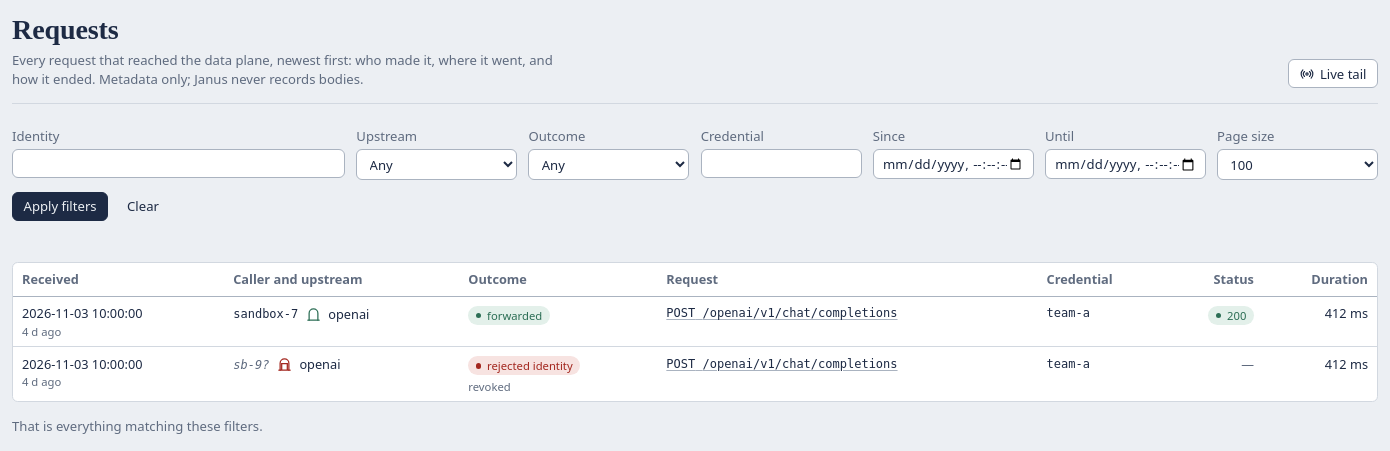
Requests view › shows the log and sends every filter to the daemon
Expected: the table named "Request log" is shown, left=13, top=263, right=1377, bottom=401
Expected: the text "sb-9?" is shown, left=233, top=358, right=269, bottom=372
Type "sandbox-7" into the field labelled "Identity" at (179, 163), box left=12, top=149, right=345, bottom=178
Select "denied" in the dropdown labelled "Outcome" at (609, 165), box left=528, top=149, right=689, bottom=180
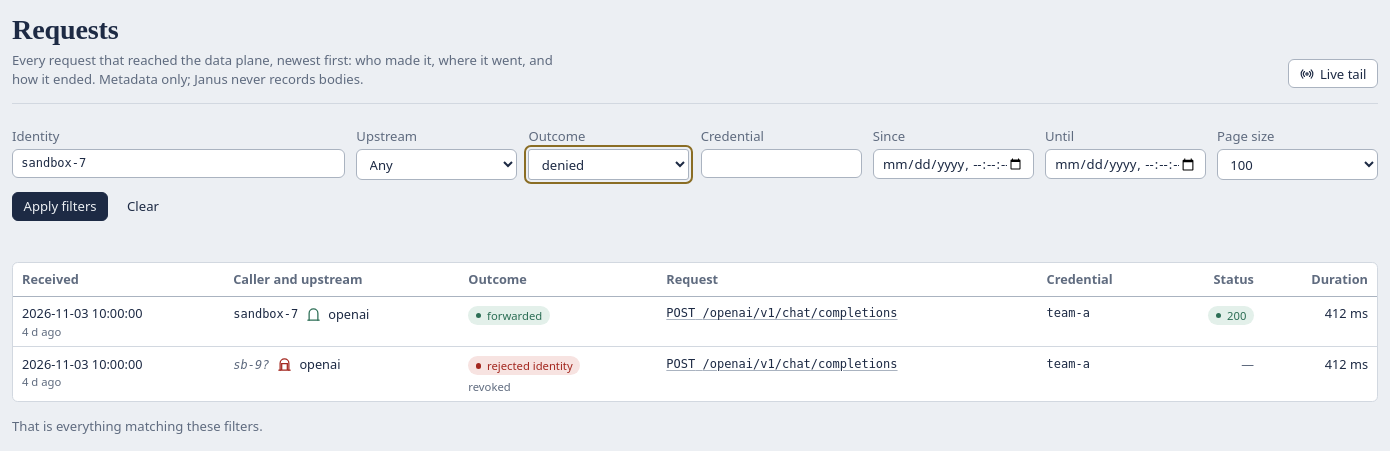
Select "openai" in the dropdown labelled "Upstream" at (437, 165), box left=356, top=149, right=517, bottom=180
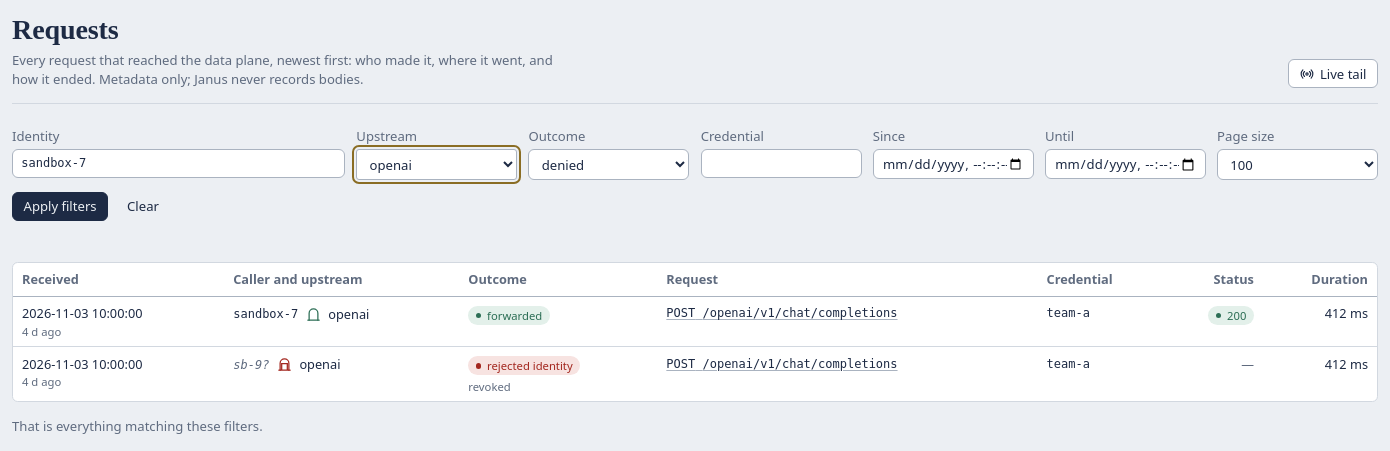
Type "team-a" into the field labelled "Credential" at (781, 163), box left=701, top=149, right=862, bottom=178
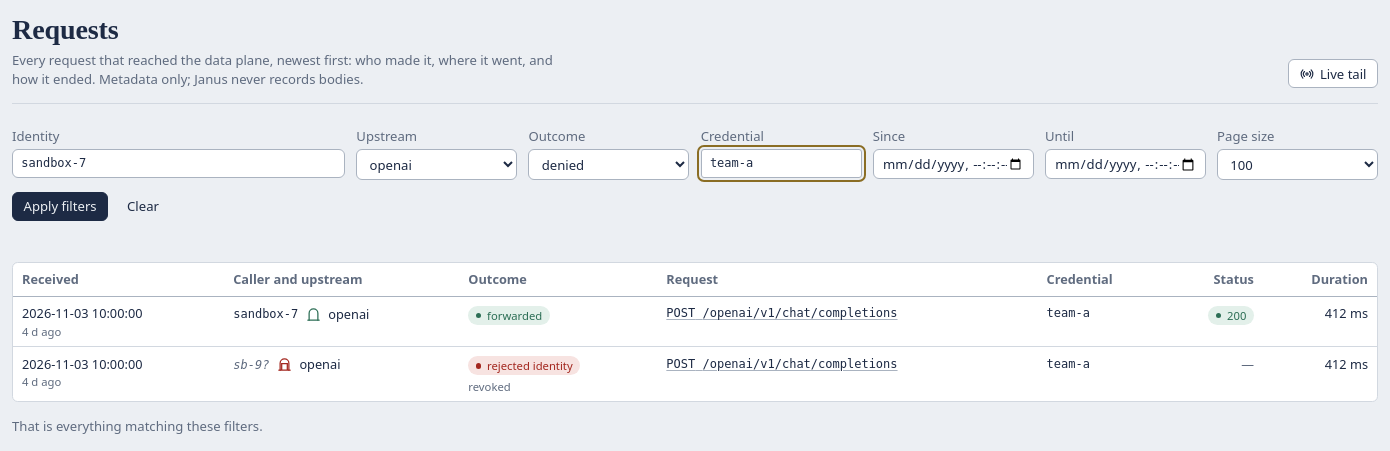
Type "2026-11-03T09:00:00" into the field labelled "Since" at (953, 164), box left=873, top=149, right=1034, bottom=179
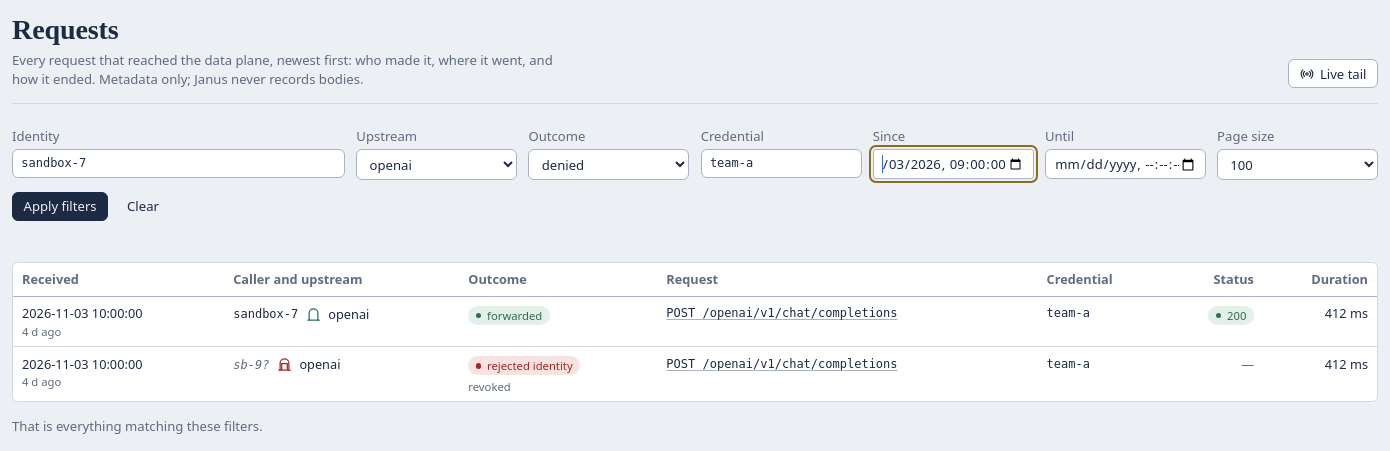
Select "250" in the dropdown labelled "Page size" at (1298, 165), box left=1217, top=149, right=1378, bottom=180
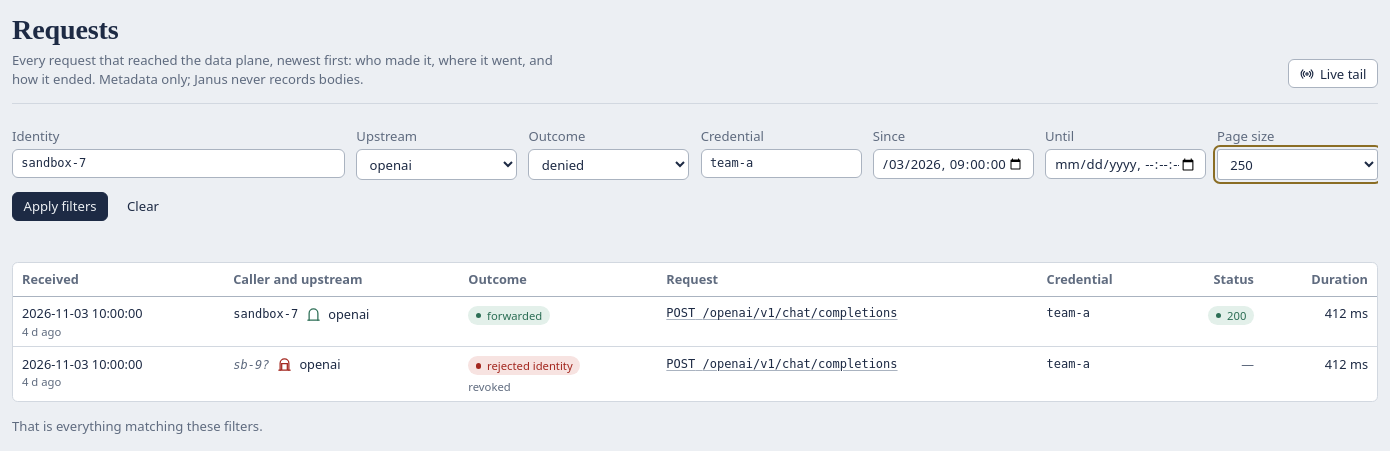
Click the button "Apply filters" at (60, 206), box left=12, top=192, right=108, bottom=221
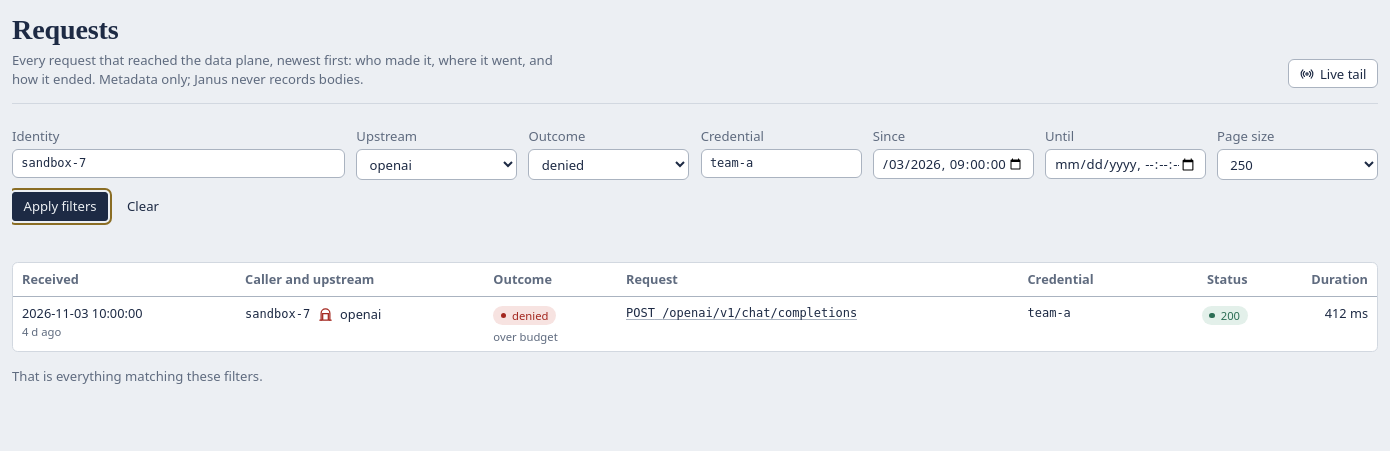
Expected: the text "sandbox-7" is shown, left=245, top=305, right=310, bottom=323
Result: the text "over budget" is shown at left=493, top=329, right=558, bottom=344
